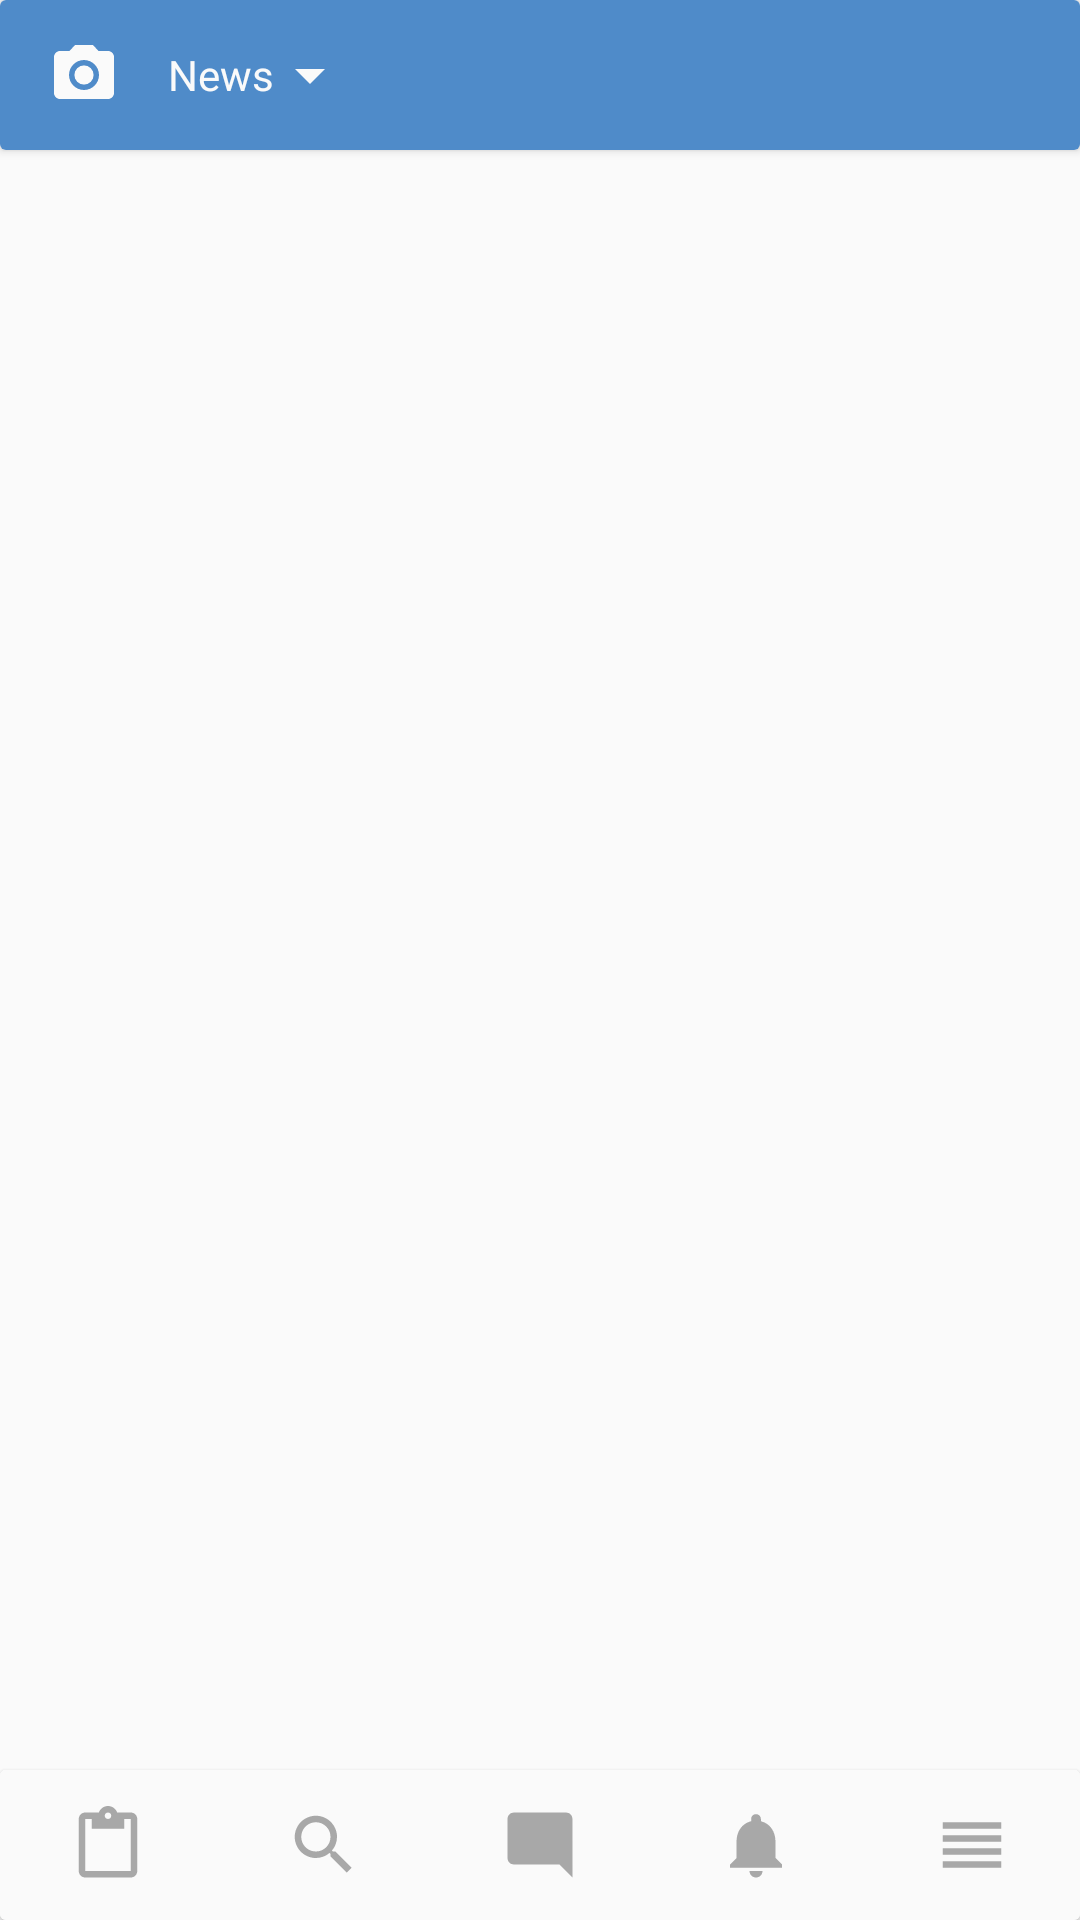

Named icons in this screenshot (1080px×1920px) and their centers, point (x, y):
arrow drop down: point (310, 76)
camera: point (84, 72)
messages: point (540, 1844)
more: point (972, 1845)
news: point (108, 1842)
notifications: point (756, 1846)
search: point (323, 1844)
